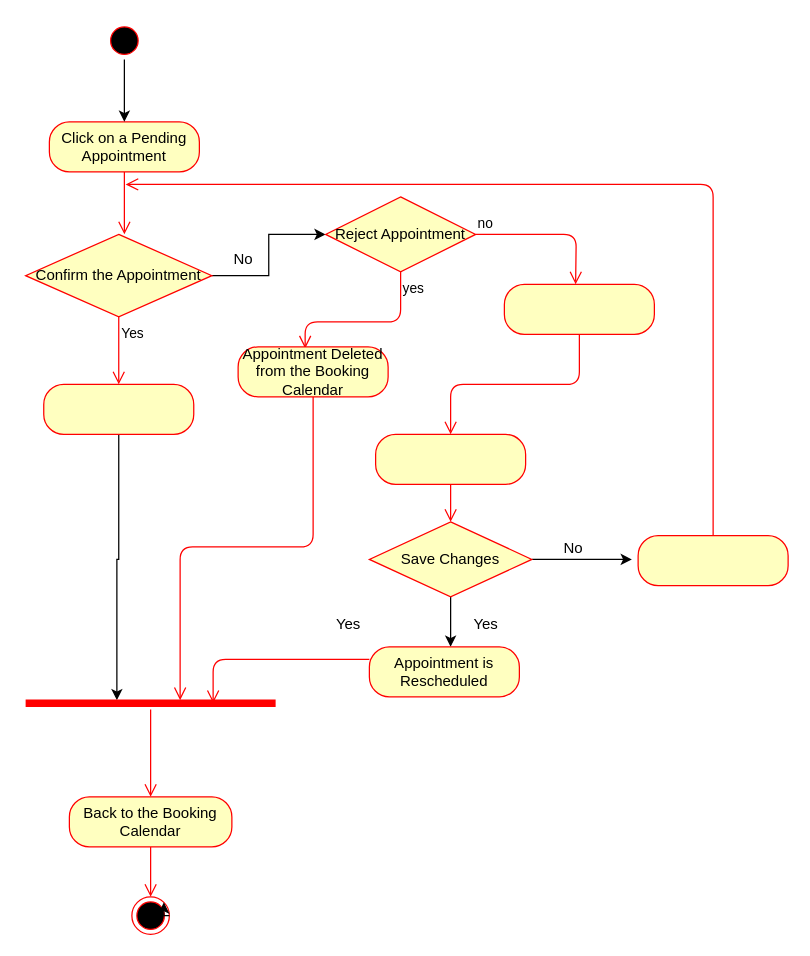
The diagram is 810 pixels wide and 956 high, and some of its shapes have lost their labels. Here are the shapes that lost their labels. From the top down, the centre of each, then its label:
At (578,308): "Reschedule".
At (118,408): "Accept the scheduled Appointment".
At (450,458): "Insert the Appointment Info".
At (712,560): "Cancel".
